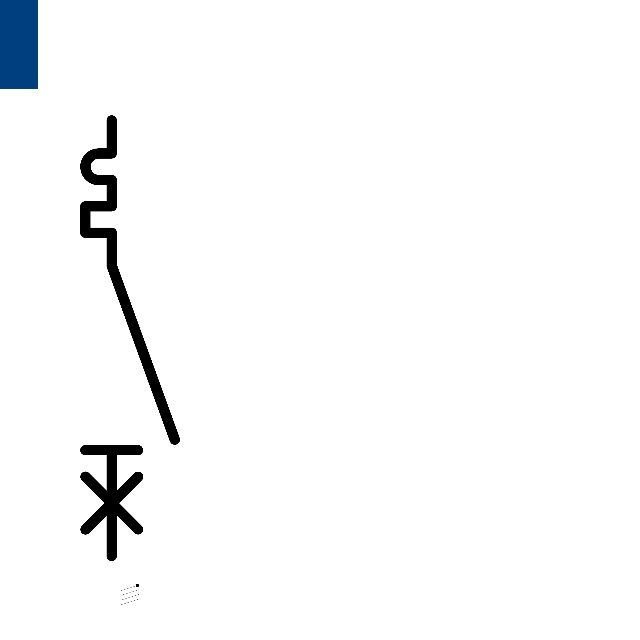interruptor_termomagnetico: (74, 109, 186, 567)
